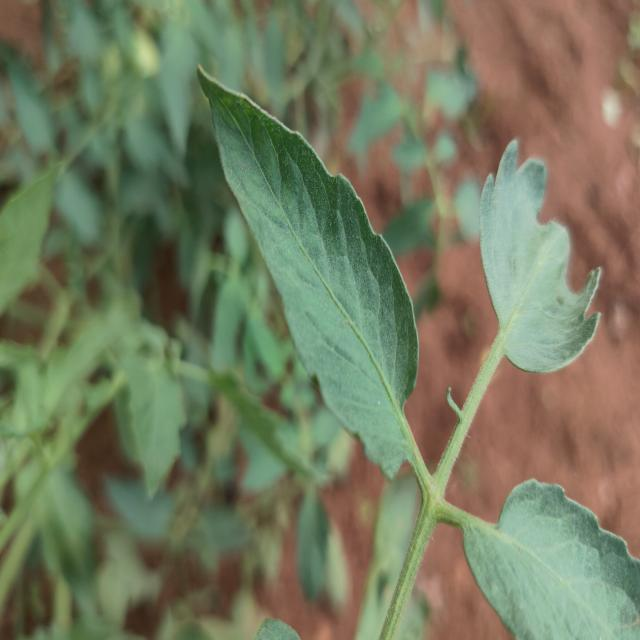tomato_healthy: (198, 68, 419, 468), (477, 135, 604, 373), (457, 477, 640, 640), (126, 352, 190, 489)
